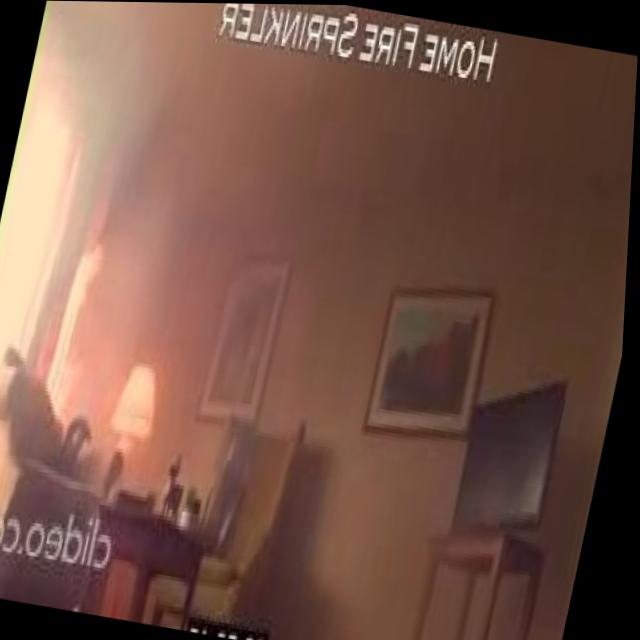fire: (42, 247, 107, 432)
